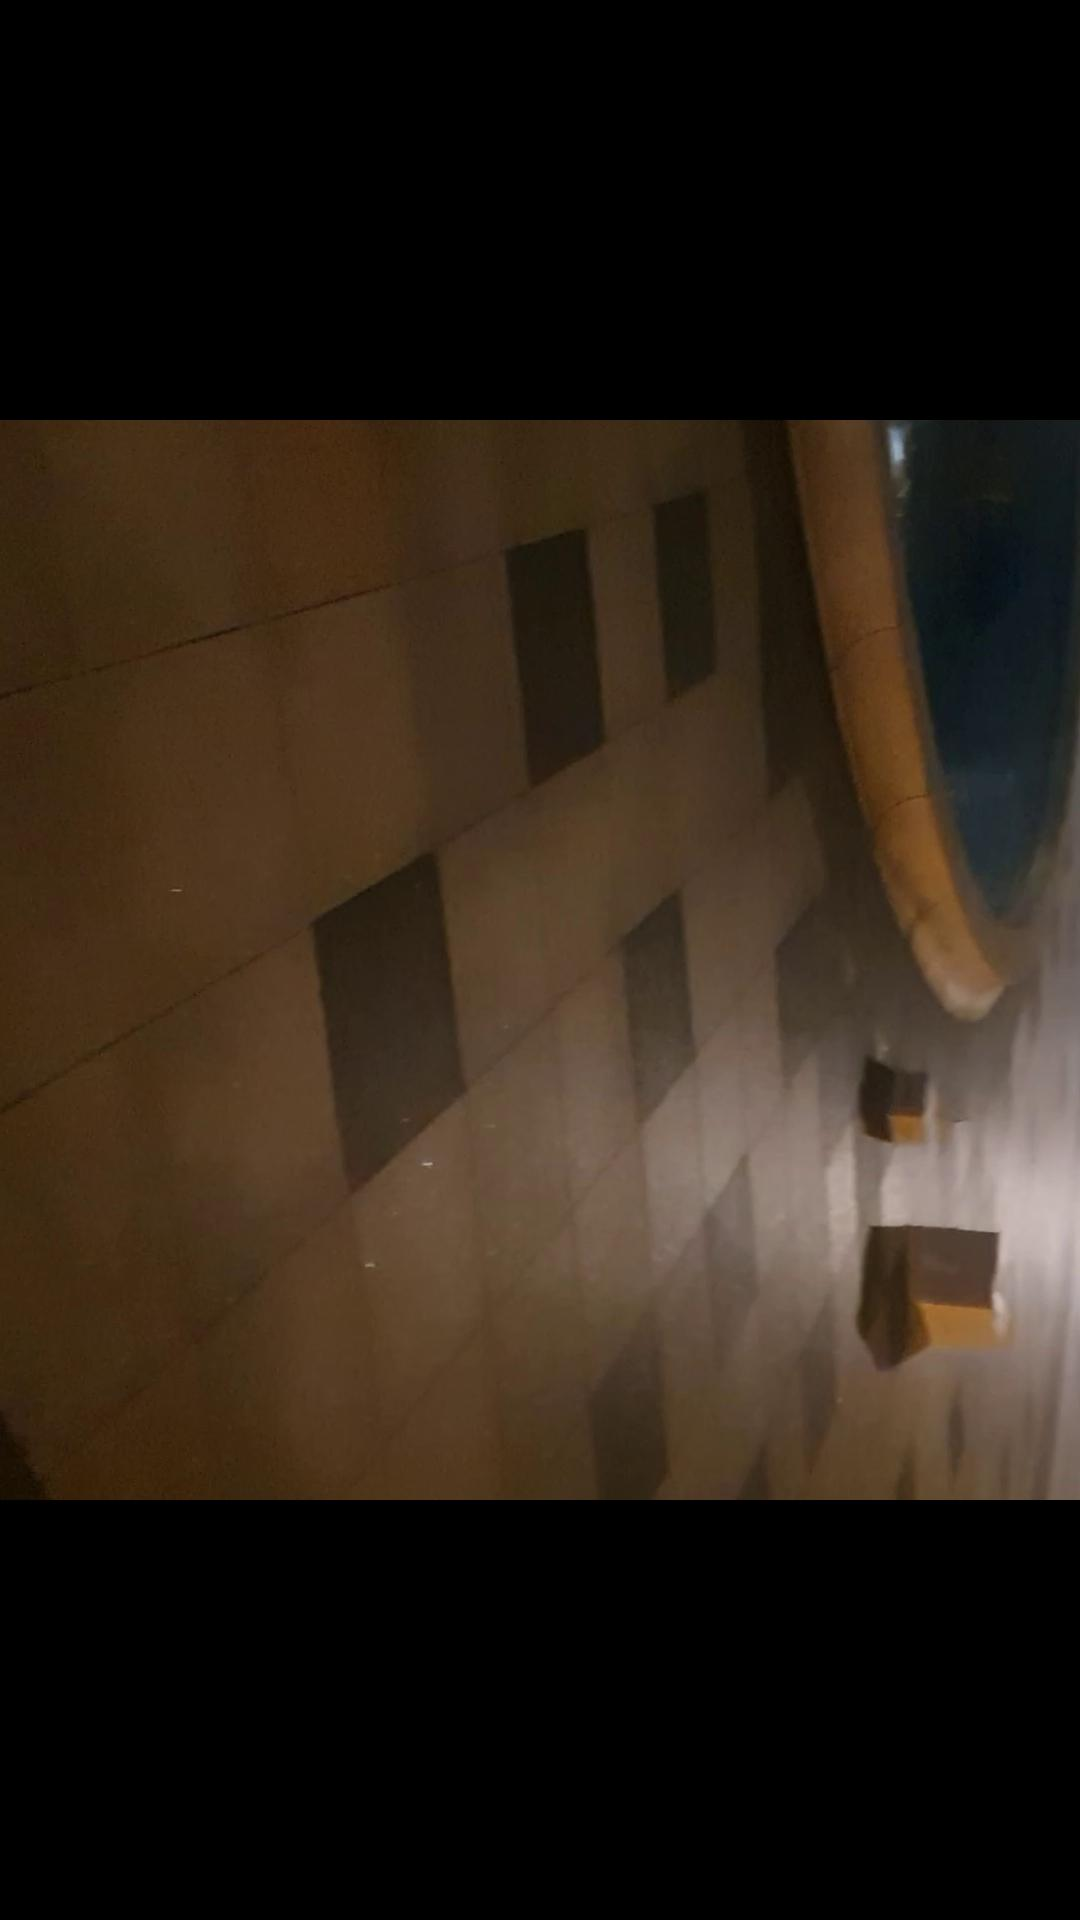Box: (880, 1232, 1021, 1362), (862, 1068, 947, 1153)
